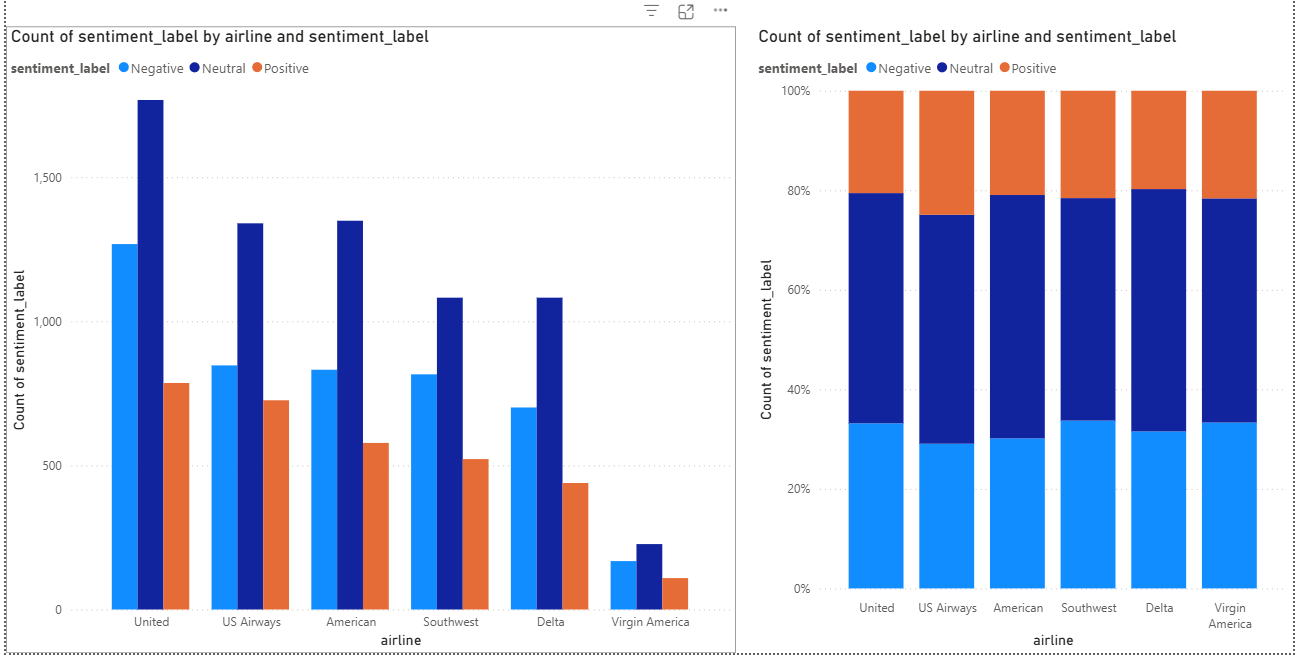

What the dashboard file says about the page in this screenshot:
{"tool":"powerbi","page":{"name":"Page 1","canvas":[1280,720],"ordinal":0},"visuals":[{"type":"hundredPercentStackedColumnChart","fields":{"Category":["Sheet1.airline"],"Y":["CountNonNull(Sheet1.sentiment_label)"],"Series":["Sheet1.sentiment_label"]},"box":[743.9,95.8,536.1,624.5],"z":1000},{"type":"clusteredColumnChart","fields":{"Category":["Sheet1.airline"],"Y":["CountNonNull(Sheet1.sentiment_label)"],"Series":["Sheet1.sentiment_label"]},"box":[0,95.8,726.5,624.5],"z":1001}]}

Visuals, with their boxes on the page's 1280x720 design canvas (x1, y1, x2, y2). These are canvas units, not pixel positions in the 1307x657 screenshot, which may show the page scaled, cropped or inside an application window:
hundredPercentStackedColumnChart - Sheet1.airline x CountNonNull(Sheet1.sentiment_label): select_region(744, 96, 1280, 720)
clusteredColumnChart - Sheet1.airline x CountNonNull(Sheet1.sentiment_label): select_region(0, 96, 726, 720)
